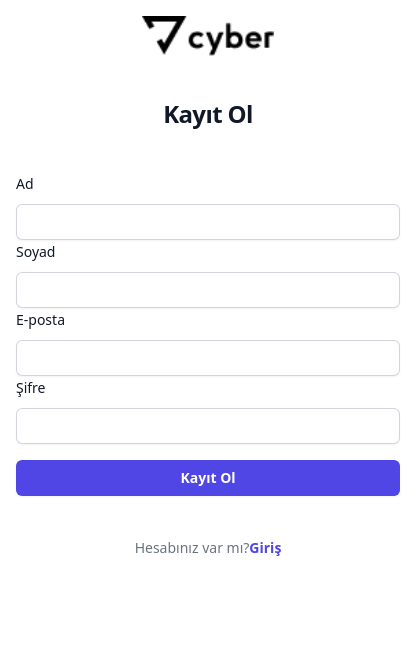
Signup Component › shows validation errors for empty fields
The width and height of the screenshot is (417, 669).
What coordinates should you click on to do the following:
click the button with test id "submit-button"
I would click on:
 (208, 478)
Its box is [16,460,400,496].
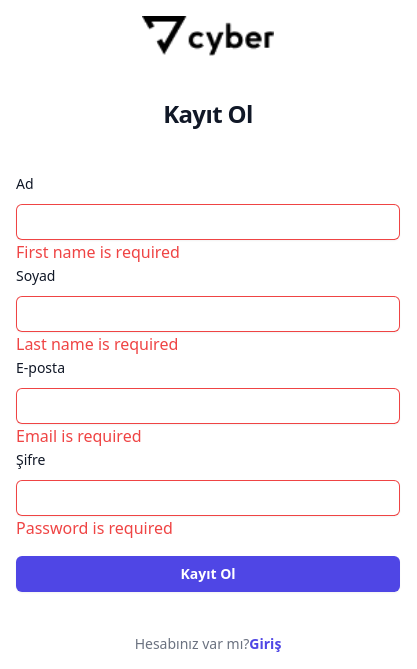
Result: the text "First name is required" is shown at [16,241,180,263]
Result: the text "Last name is required" is shown at [16,333,178,355]
Result: the text "Email is required" is shown at [16,425,142,447]
